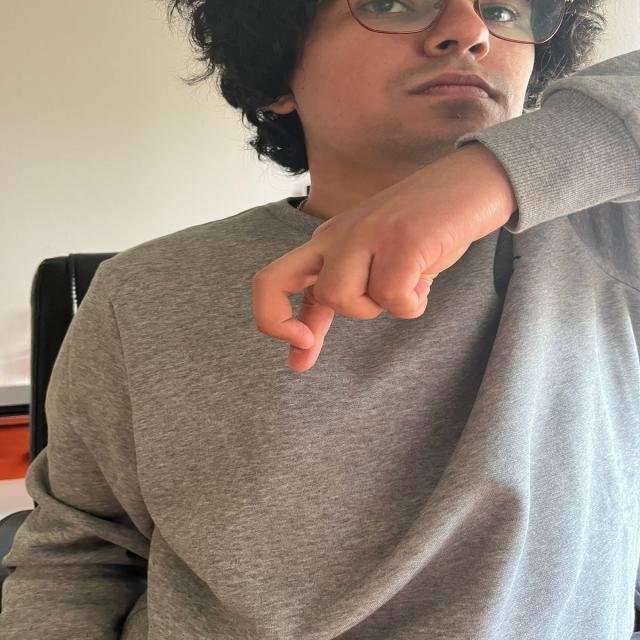P: (249, 135, 516, 377)
